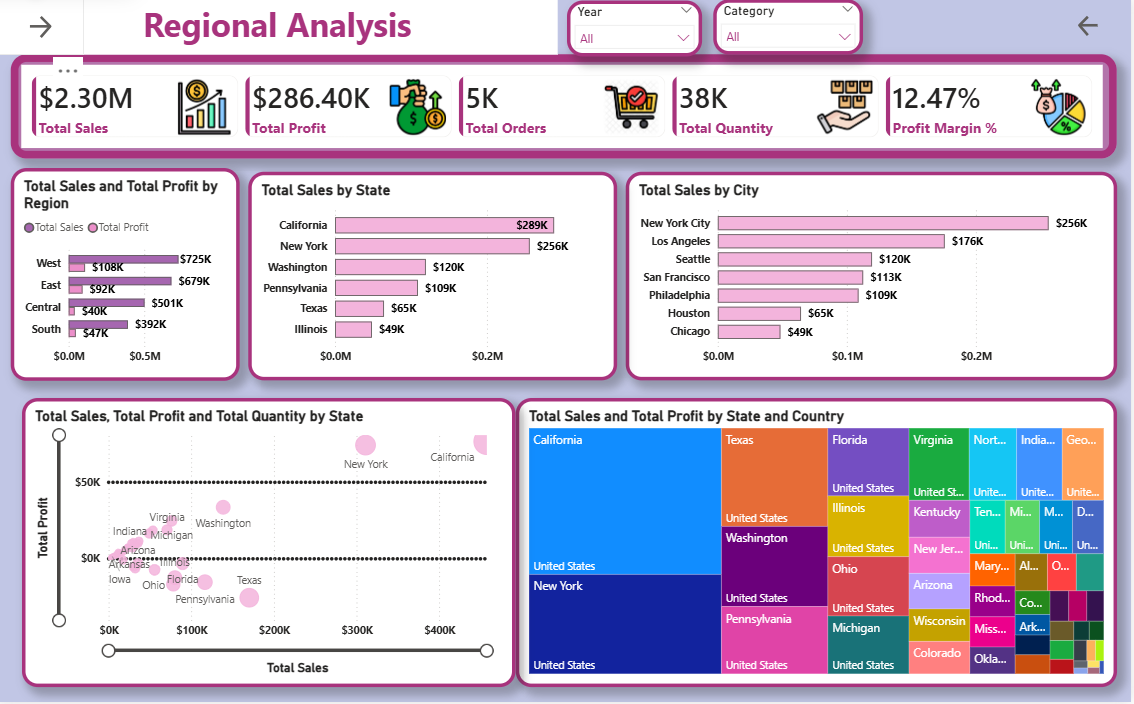

Layout of this report page (visuals, bound fields, positions):
{"tool":"powerbi","page":{"name":" Regional Analysis","canvas":[1297,805],"ordinal":1},"visuals":[{"type":"cardVisual","fields":{"Data":["DimCustomer.Total Sales","DimCustomer.Total Profit","DimCustomer.Total Orders","DimCustomer.Total Quantity","DimCustomer.Profit Margin %"]},"box":[16.1,64.6,1264,119.2],"z":0},{"type":"textbox","box":[0,0,640.6,65.1],"z":1000},{"type":"slicer","fields":{"Values":["DimDate.Year"]},"box":[651.5,2.4,154.4,63.9],"z":2000},{"type":"slicer","fields":{"Values":["DimProduct.Category"]},"box":[818.6,1.4,171.4,62.9],"z":3000},{"type":"clusteredBarChart","fields":{"Category":["DimRegion.Region"],"Y":["DimCustomer.Total Sales","DimCustomer.Total Profit"]},"box":[15.7,194.3,261.4,242.9],"z":4000},{"type":"barChart","fields":{"Category":["DimRegion.City"],"Y":["DimCustomer.Total Sales"]},"box":[718.6,198.6,561.4,238.6],"z":5000},{"type":"barChart","fields":{"Category":["DimRegion.State"],"Y":["DimCustomer.Total Sales"]},"box":[287.1,198.6,421.4,238.6],"z":6000},{"type":"treemap","fields":{"Group":["DimRegion.State"],"Values":["DimCustomer.Total Sales"],"Details":["DimRegion.Country"]},"box":[592.9,457.1,687.1,330],"z":7000},{"type":"scatterChart","fields":{"Category":["DimRegion.State"],"X":["DimCustomer.Total Sales"],"Y":["DimCustomer.Total Profit"],"Size":["DimCustomer.Total Quantity"]},"box":[28.6,457.1,564.3,330],"z":8000},{"type":"actionButton","box":[0,0,100,65.7],"z":8003},{"type":"actionButton","box":[1197,0,100,64.3],"z":8004}]}

Visuals, with their boxes in screenshot pixels (x1, y1, x2, y2), scaled from the page's 1297x805 canvas onto the 1134x704 screenshot:
cardVisual - DimCustomer.Total Sales x DimCustomer.Total Profit: [left=14, top=56, right=1119, bottom=161]
textbox: [left=0, top=0, right=560, bottom=57]
slicer - DimDate.Year: [left=570, top=2, right=705, bottom=58]
slicer - DimProduct.Category: [left=716, top=1, right=866, bottom=56]
clusteredBarChart - DimRegion.Region x DimCustomer.Total Sales: [left=14, top=170, right=242, bottom=382]
barChart - DimRegion.City x DimCustomer.Total Sales: [left=628, top=174, right=1119, bottom=382]
barChart - DimRegion.State x DimCustomer.Total Sales: [left=251, top=174, right=619, bottom=382]
treemap - DimRegion.State x DimCustomer.Total Sales: [left=518, top=400, right=1119, bottom=688]
scatterChart - DimRegion.State x DimCustomer.Total Sales: [left=25, top=400, right=518, bottom=688]
actionButton: [left=0, top=0, right=87, bottom=57]
actionButton: [left=1047, top=0, right=1133, bottom=56]
